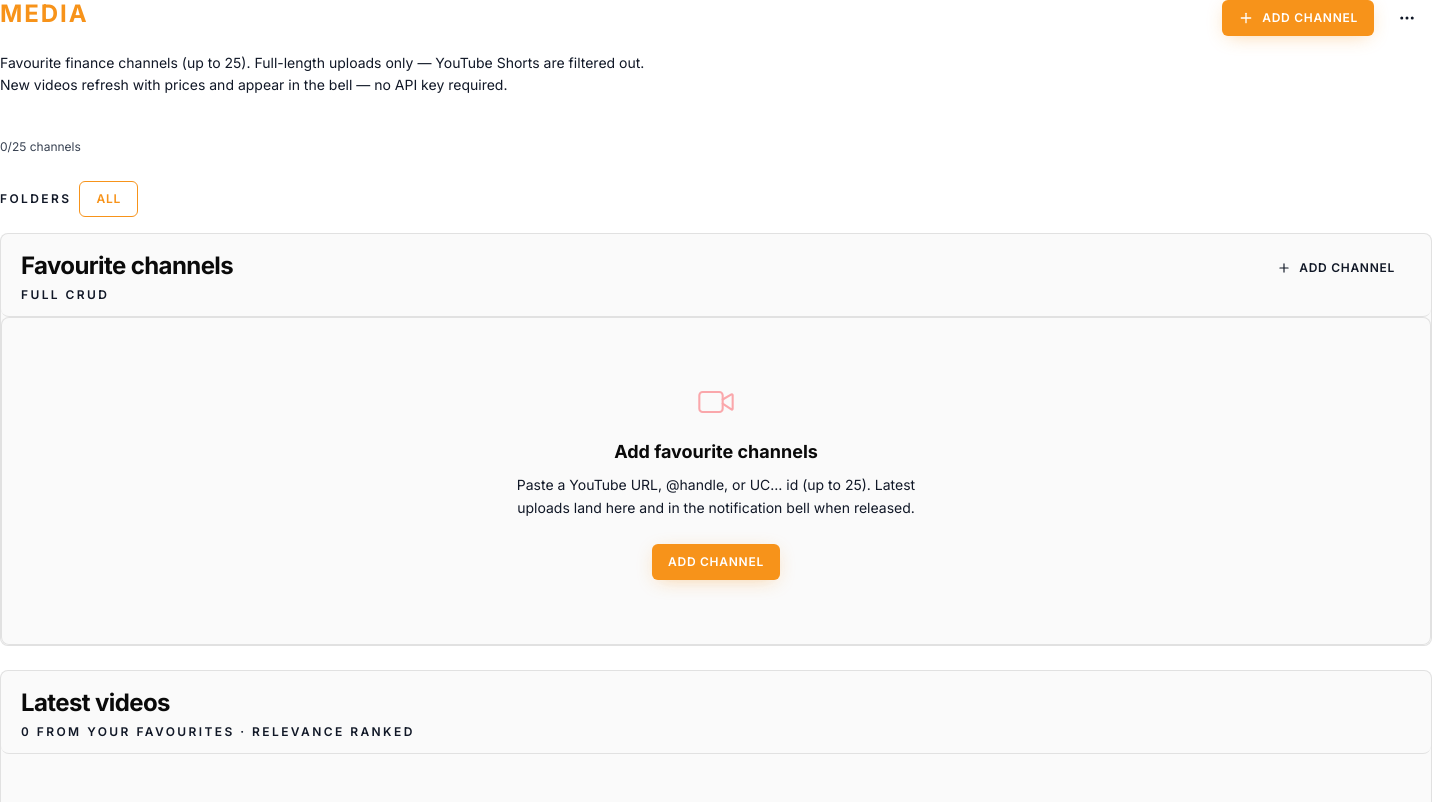
Test: YouTube + News page render QA › YouTubePage renders empty state and opens Add channel modal
The width and height of the screenshot is (1440, 802).
Expected: the text "Favourite channels" is shown, [21,250,233,282]
Expected: the heading "Add favourite channels" is shown, [614,441,818,462]
Click the button "Add channel" in the row of "Media". click: x=1298, y=18
box: [1222,0,1374,36]
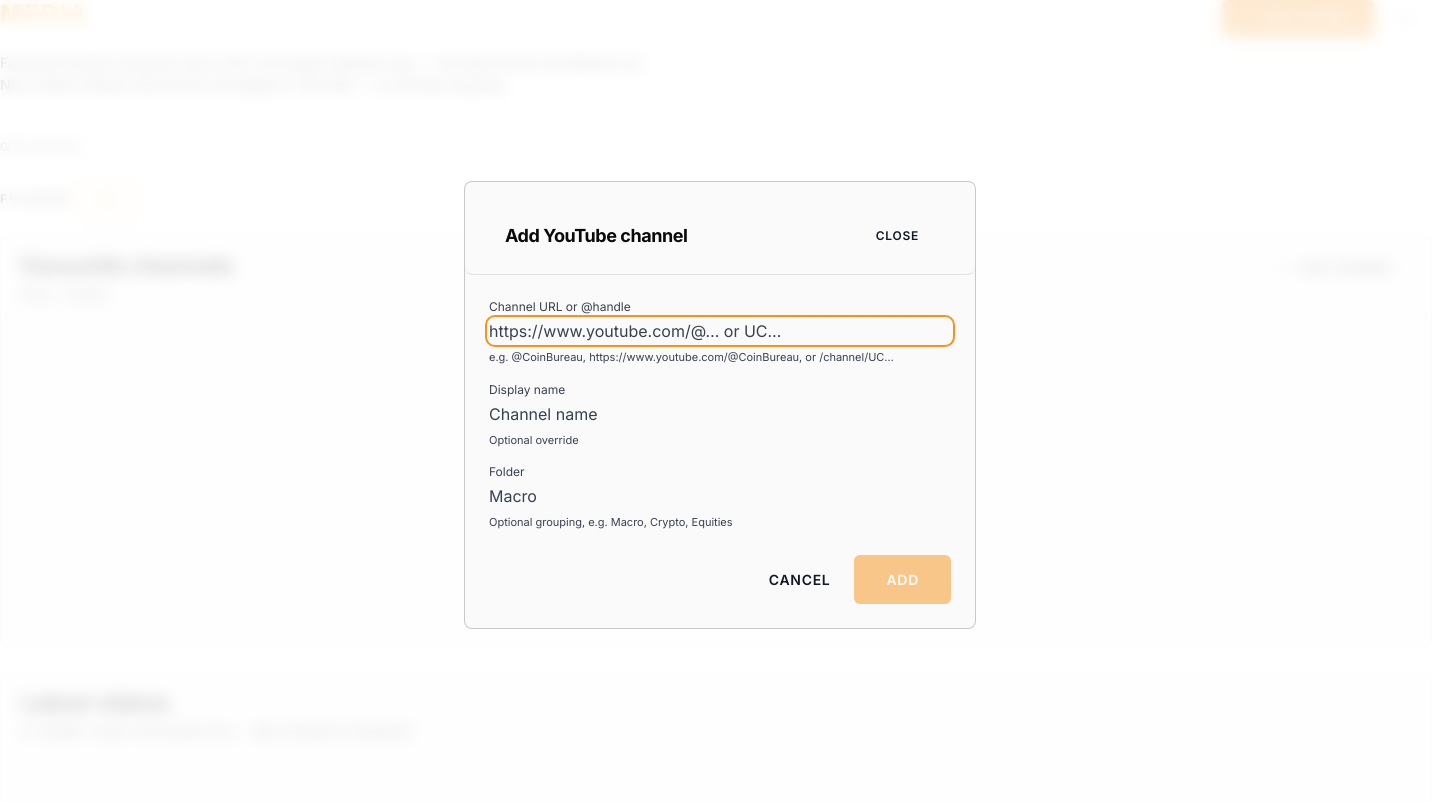
Result: the heading "Add YouTube channel" is shown at [505,222,687,250]
Result: the field labelled "Channel URL or @handle" is shown at [489,319,951,343]
